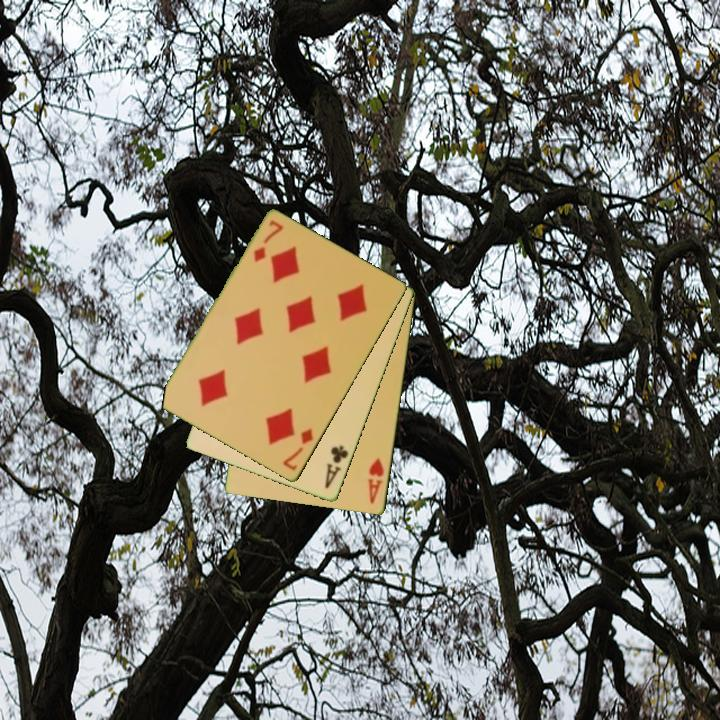7d: (279, 425, 317, 474), (250, 217, 286, 265)
Ac: (321, 442, 352, 492)
Ah: (364, 455, 387, 507)
